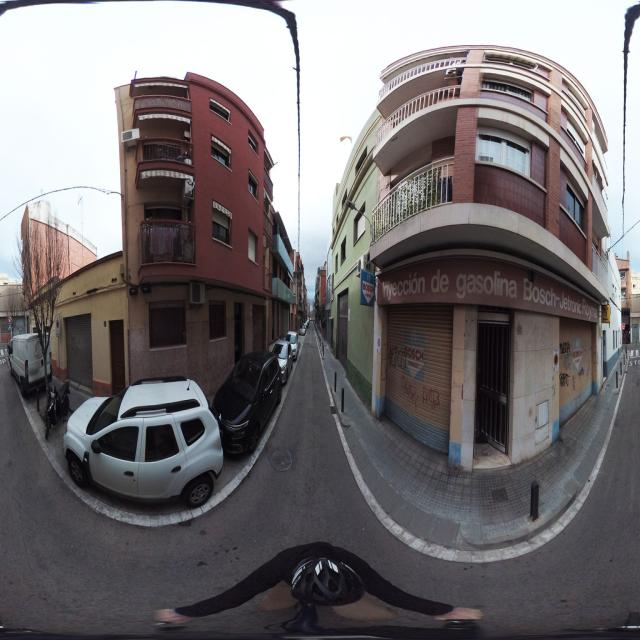forb_stopping: (56, 320, 59, 329)
